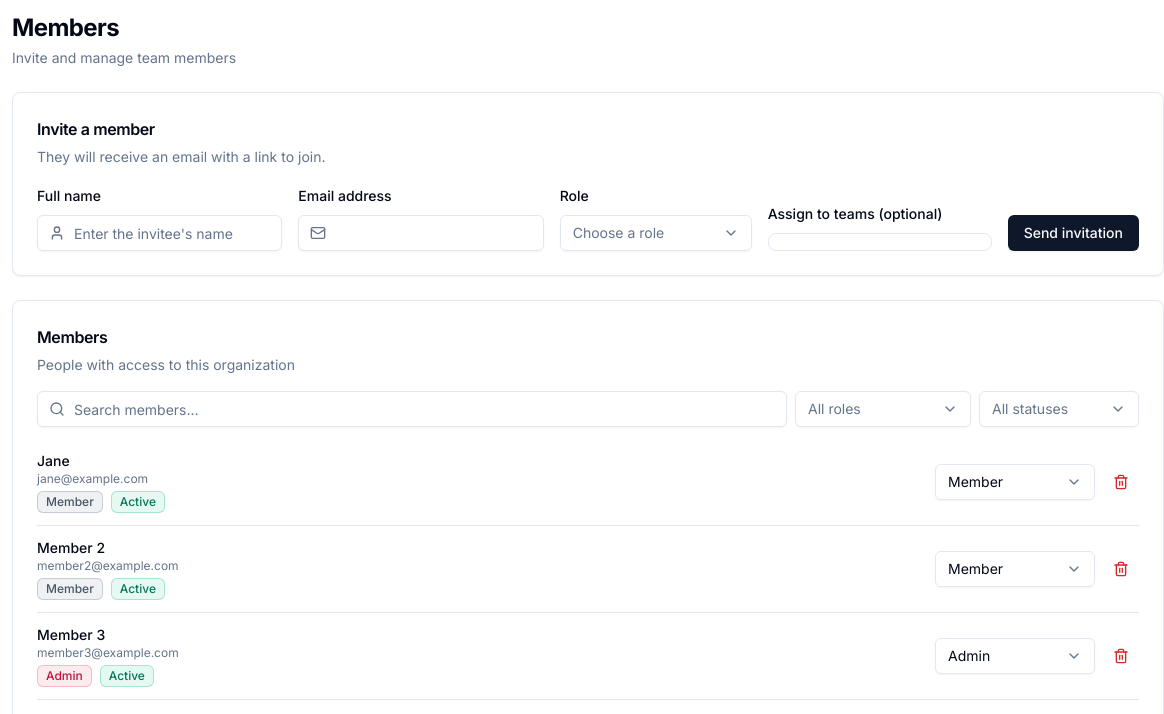
Test: MembersSettingsPage — pagination + filters › filters members by role
Expected: the text "jane@example.com" is shown, [37,471,165,487]
# Custom Select: click the trigger, then the option in the popover list.
Click the dropdown labelled "All roles". click: (883, 409)
box: [795,391,971,427]
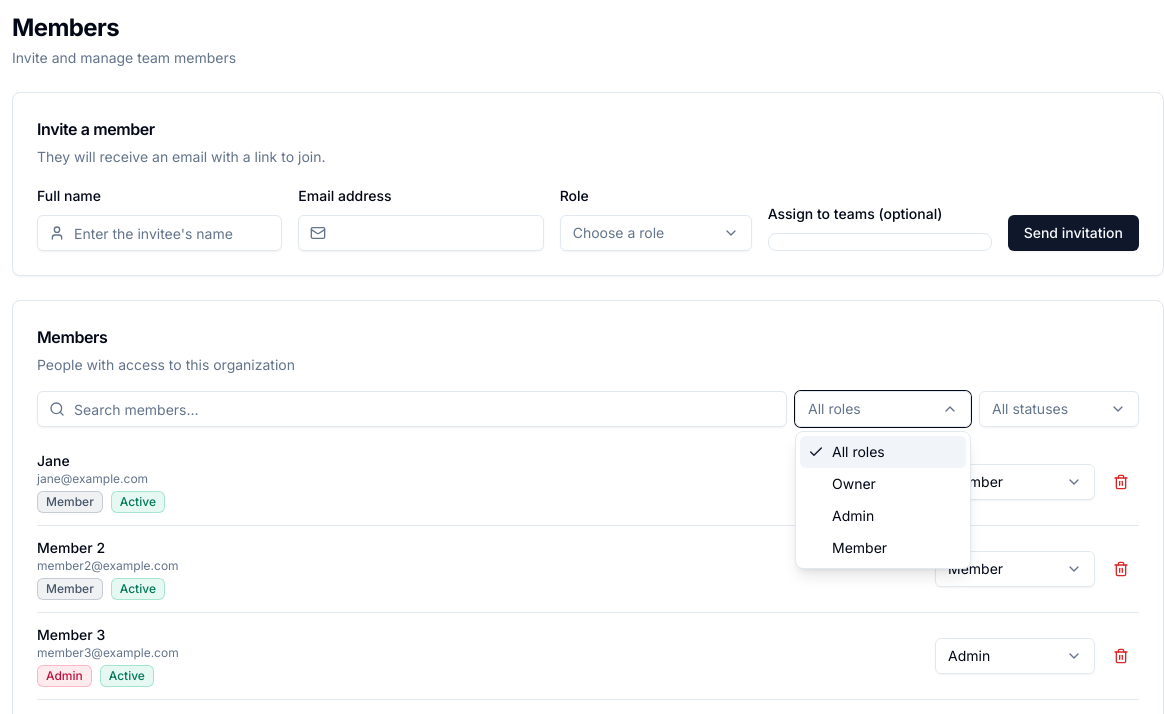
Click the option "Admin". click: (883, 516)
box: [800,500,966,532]
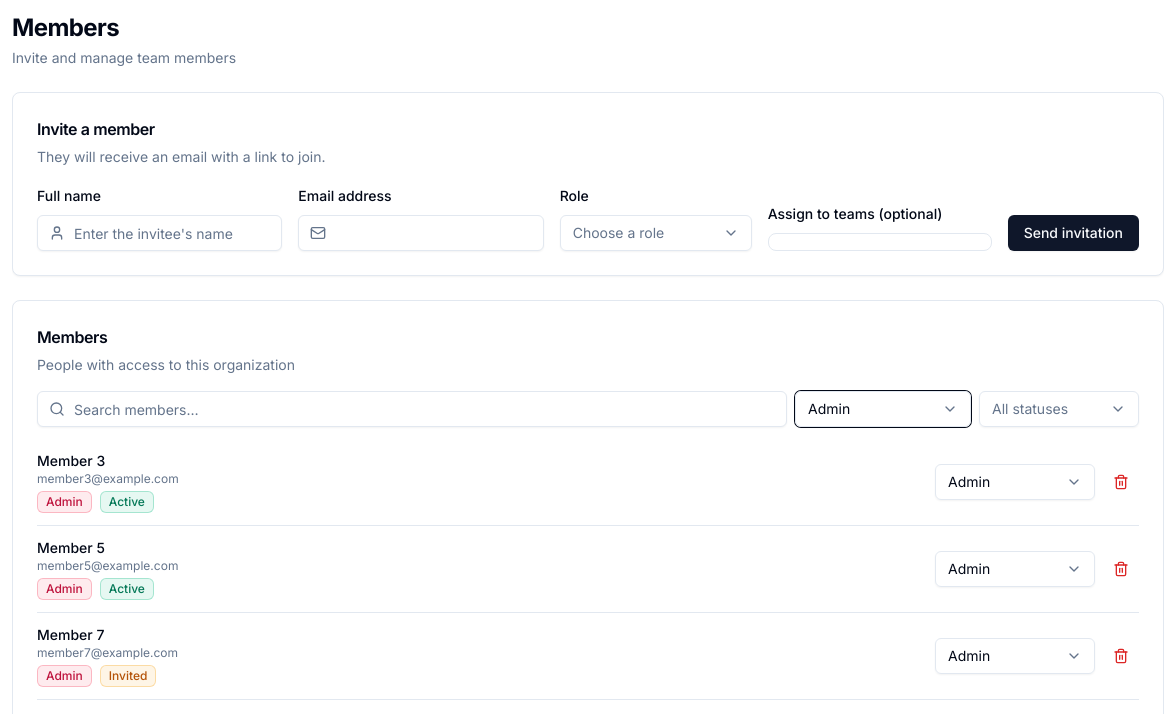
Now the text "jane@example.com" is gone
Now the 1st text "Admin" is shown, box [808,400,850,417]
